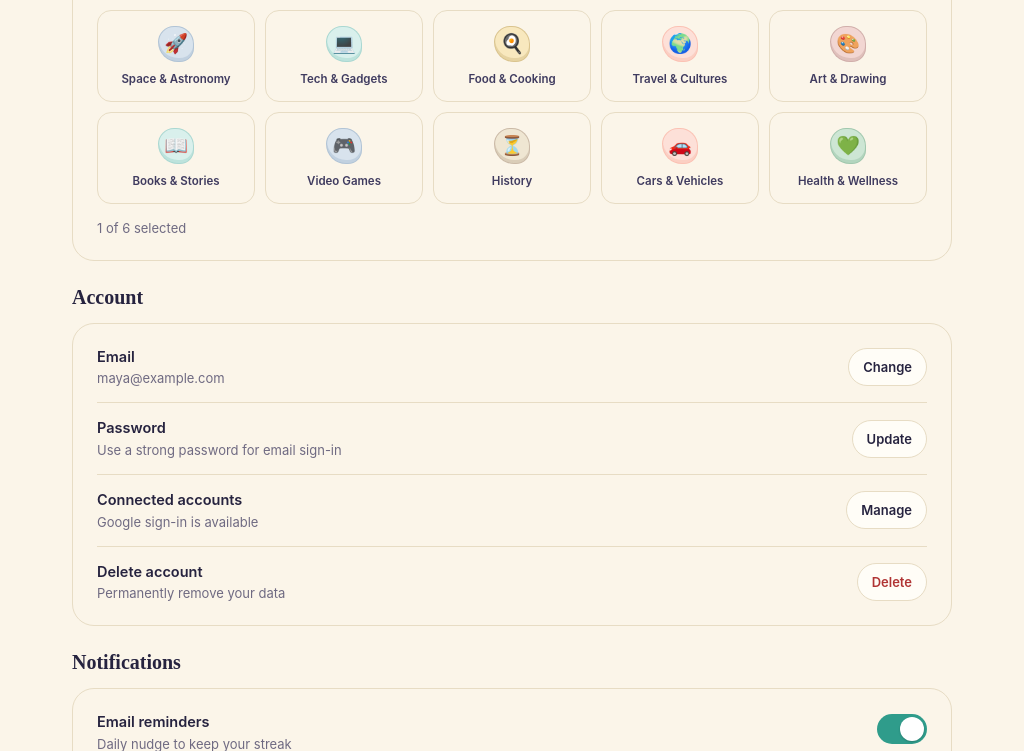
SettingsRoute › shows honest messaging for unsupported email changes
The width and height of the screenshot is (1024, 751).
(page scrolled)
Click the button "Change".
click(888, 367)  # box [848,348,927,386]
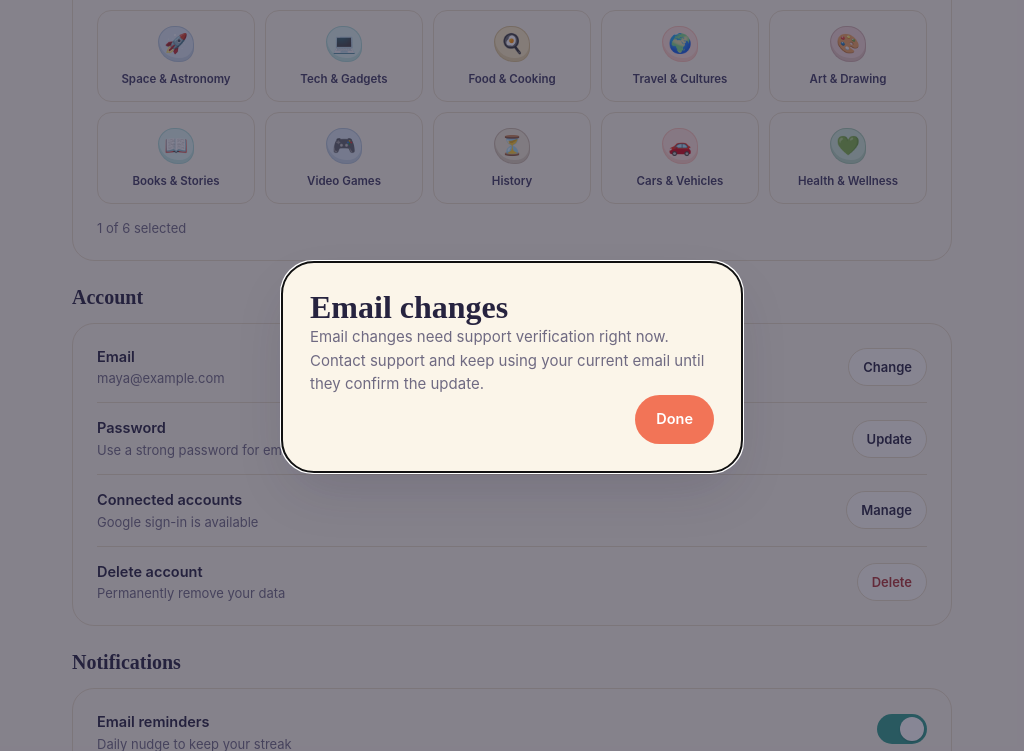
expect the dialog "Email changes" is shown: met, box [282,262,742,472]
expect the text "need support verification" is shown: met, box [310,328,704,393]
